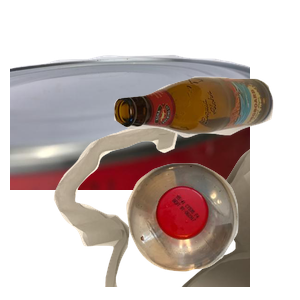glass: (111, 74, 300, 204)
metal: (10, 52, 250, 232)
plastic: (124, 161, 300, 300)
trash: (51, 120, 291, 300)
